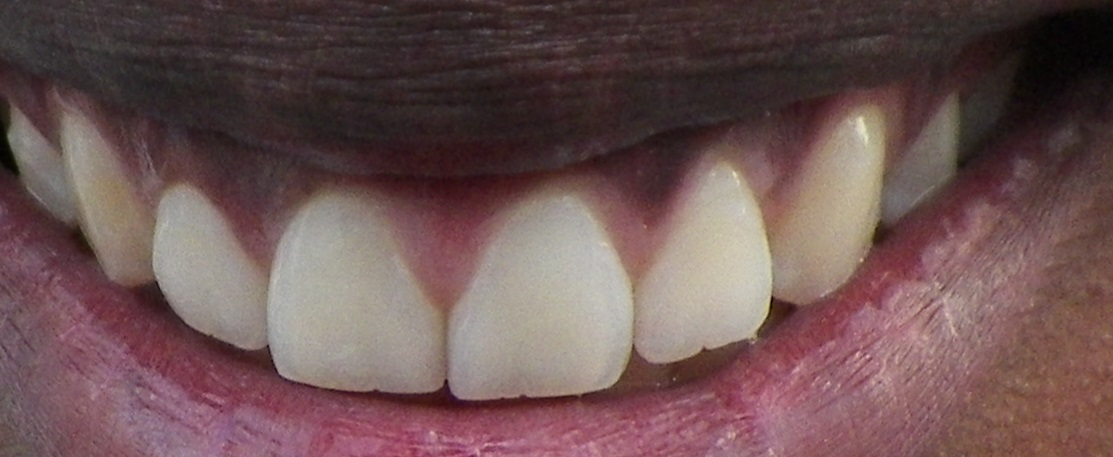boca: (11, 95, 1046, 408)
